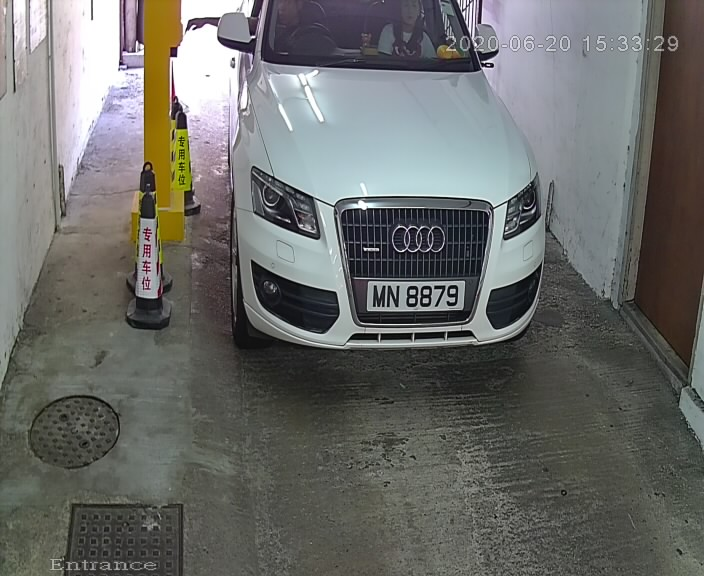privatecar: (209, 3, 556, 381)
